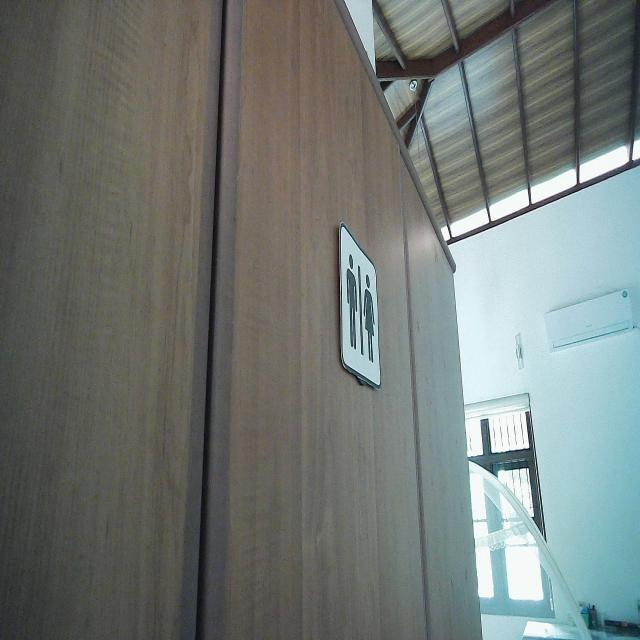restroom: (336, 218, 383, 395)
